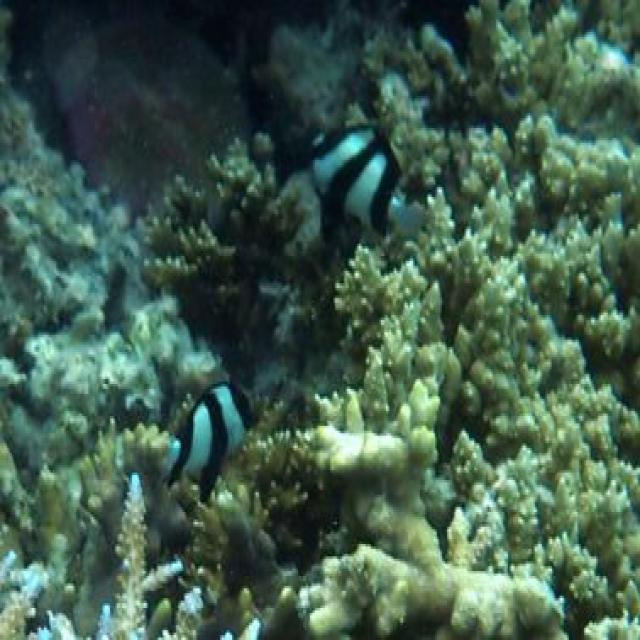ThreeStripedDamselfish: (307, 116, 421, 247)
